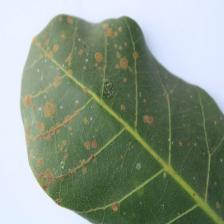red rust: (20, 13, 224, 224)
